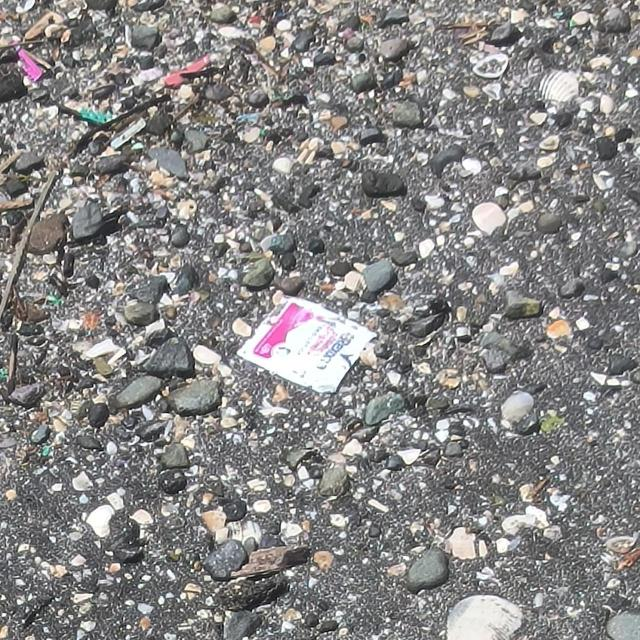plastic_waste: (233, 294, 374, 392)
